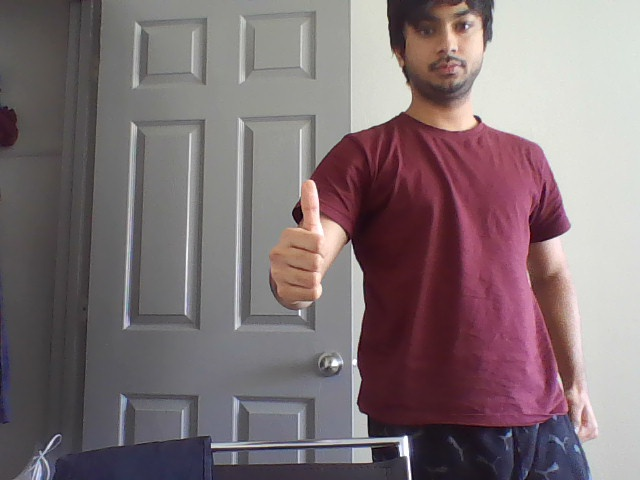confirm: (266, 177, 335, 308)
